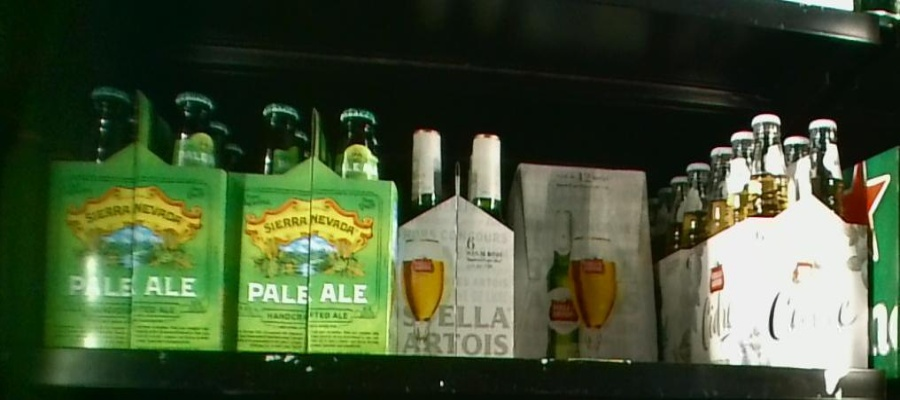bottle: (50, 86, 225, 355), (229, 88, 385, 353), (744, 108, 871, 366), (397, 112, 515, 362), (514, 149, 655, 358)
